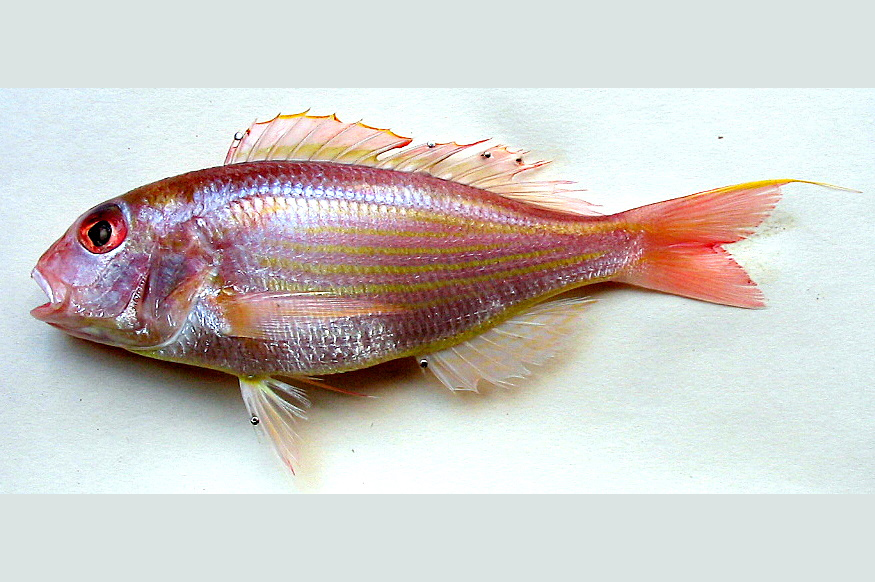Ikan Kerisi: (25, 137, 754, 373)
